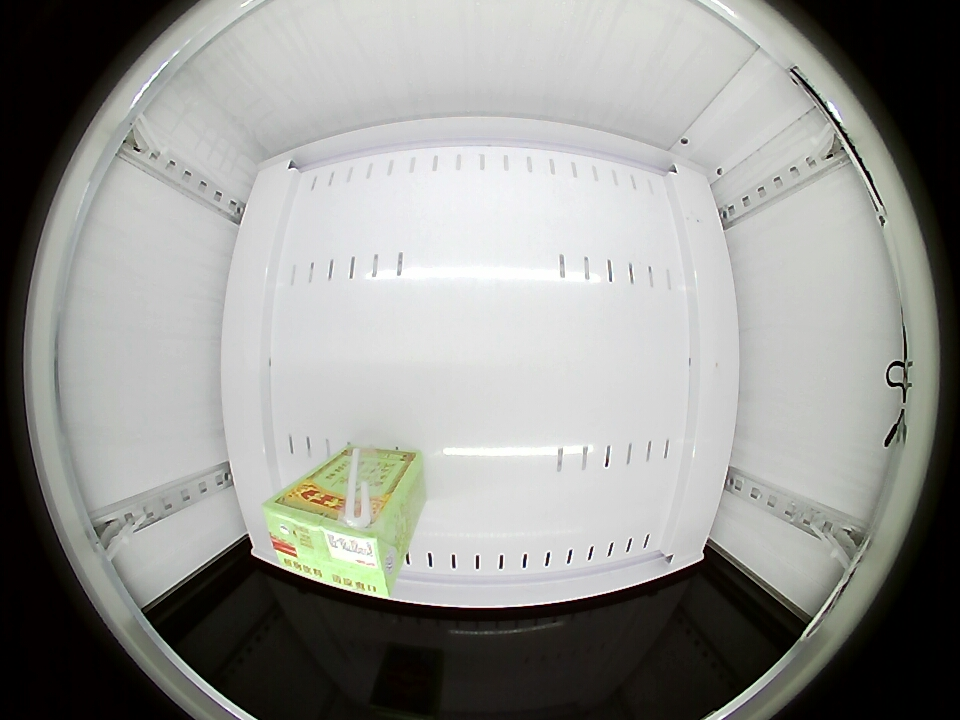wanglaoji: (262, 482, 402, 599)
